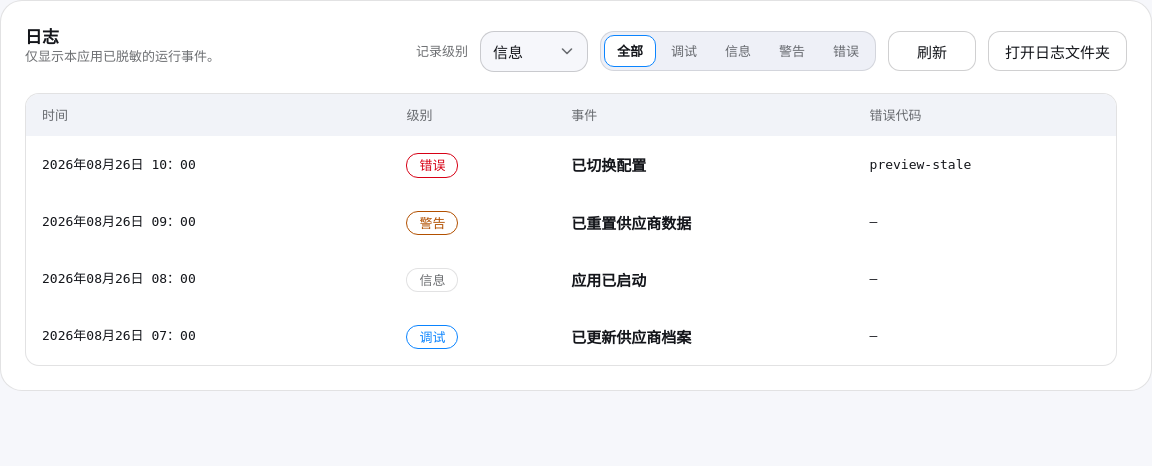
LogsPage › keeps an existing table visible when a manual refresh fails
Expected: the text "已切换配置" is shown, x1=555 y1=136 x2=854 y2=194
Click the button "刷新" at (932,51), box x1=888 y1=31 x2=976 y2=71
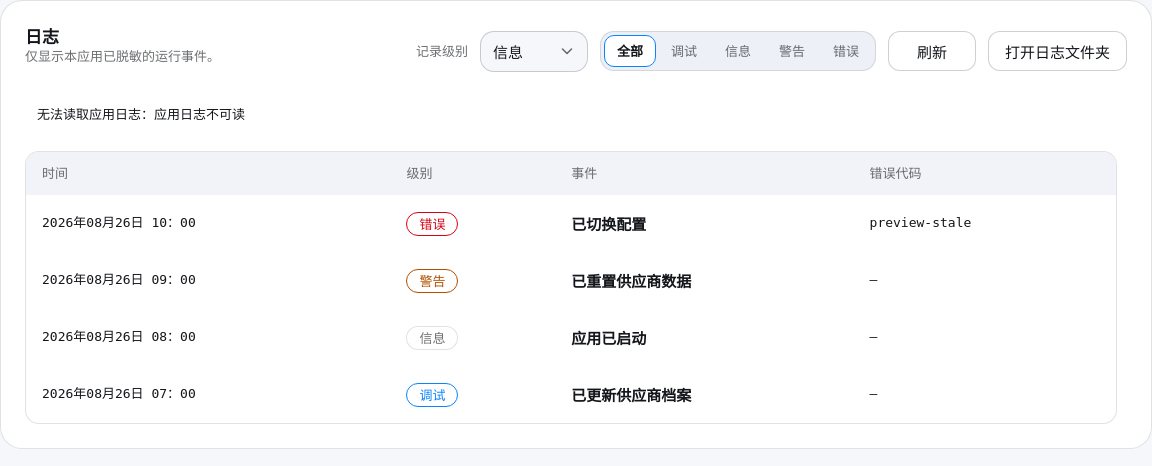
Expected: the text "已切换配置" is shown, x1=555 y1=195 x2=854 y2=252
Now the message shows "应用日志不可读", box x1=154 y1=104 x2=245 y2=123
